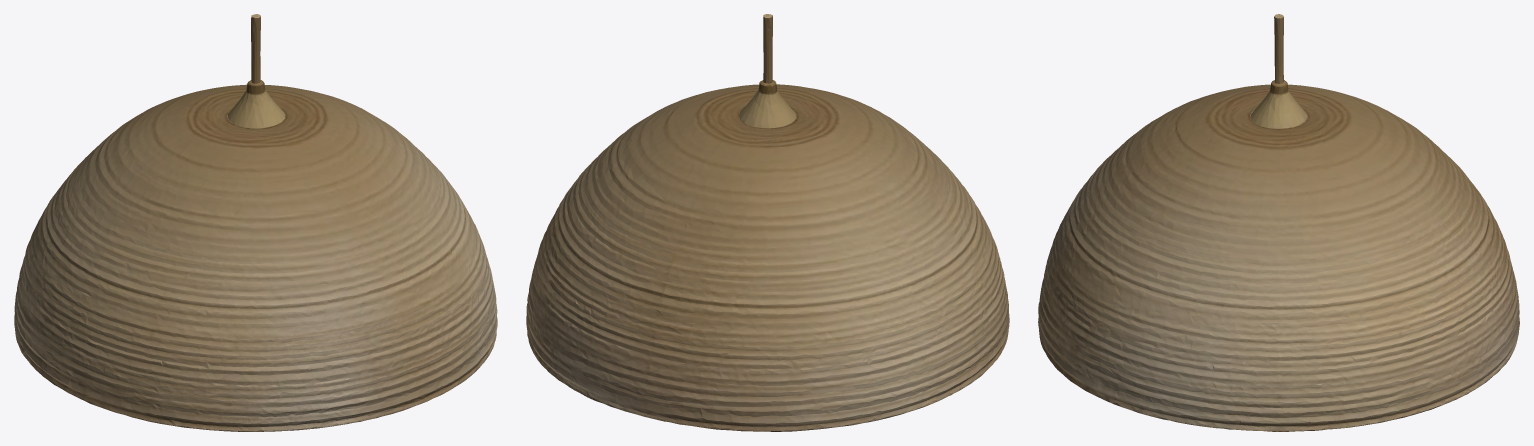
File: ast_486bad7aa5ab.glb
3 renders of one model, left to right at view 1: azimuth 30°, elevation 25°; view 2: azimuth 150°, elevation 25°; view 3: azimuth 270°, elevation 25°, orthographic.
Parts seen in each view (by area): view 1: geometry_0; view 2: geometry_0; view 3: geometry_0.
Boxes of the visible parts, x1,y1,x2,y2 form: geometry_0: (14, 14, 497, 431); geometry_0: (526, 14, 1009, 431); geometry_0: (1038, 14, 1519, 431).
Size of the model in its own units: 0.9979 by 0.7197 by 0.9974.
1 material, 1 textured.
